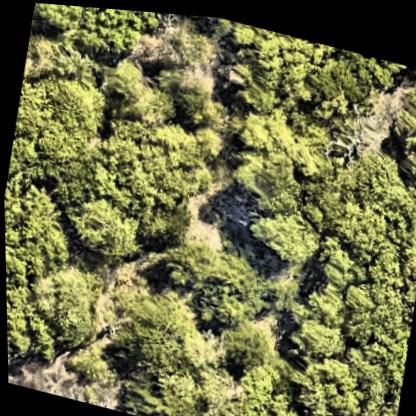tree-top: (92, 85, 235, 220), (310, 127, 416, 260), (289, 227, 387, 363), (160, 235, 287, 338), (9, 62, 109, 168), (224, 100, 325, 204), (3, 167, 78, 287), (27, 2, 166, 66), (303, 36, 403, 122), (22, 261, 112, 352), (116, 284, 192, 385), (59, 185, 151, 267), (241, 20, 318, 111), (104, 50, 179, 131), (5, 280, 63, 379), (240, 198, 324, 264), (299, 345, 366, 416), (226, 354, 302, 416), (122, 369, 204, 416), (183, 360, 246, 416), (383, 73, 416, 176), (166, 50, 219, 112), (216, 310, 269, 371), (141, 193, 197, 250), (57, 342, 109, 389), (301, 395, 394, 416)
